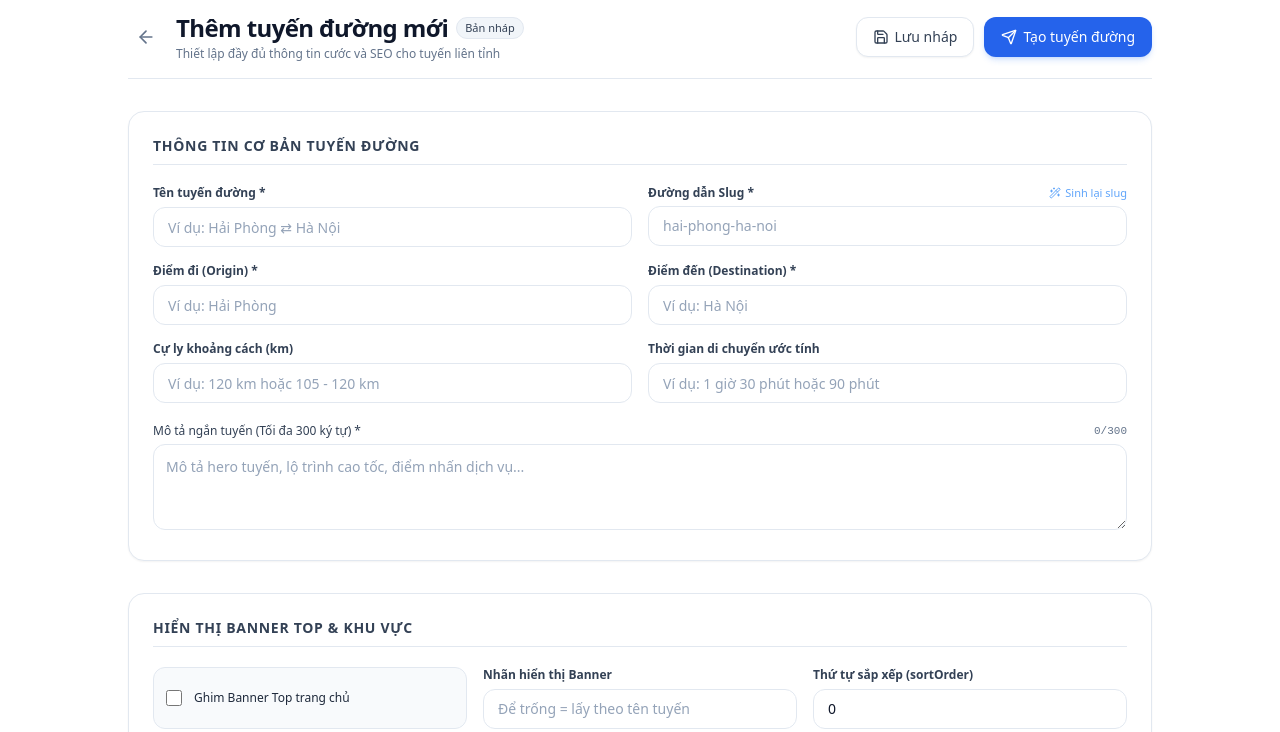
it: Routes & Pricing Tiers Module (Task T114 & T115) › RouteForm Component (Task T115) › tự động sinh slug từ tên tuyến khi tạo mới
Type "Hải Phòng - Nam Định" into the field with test id "route-name-input" at (392, 227), box left=153, top=207, right=632, bottom=247
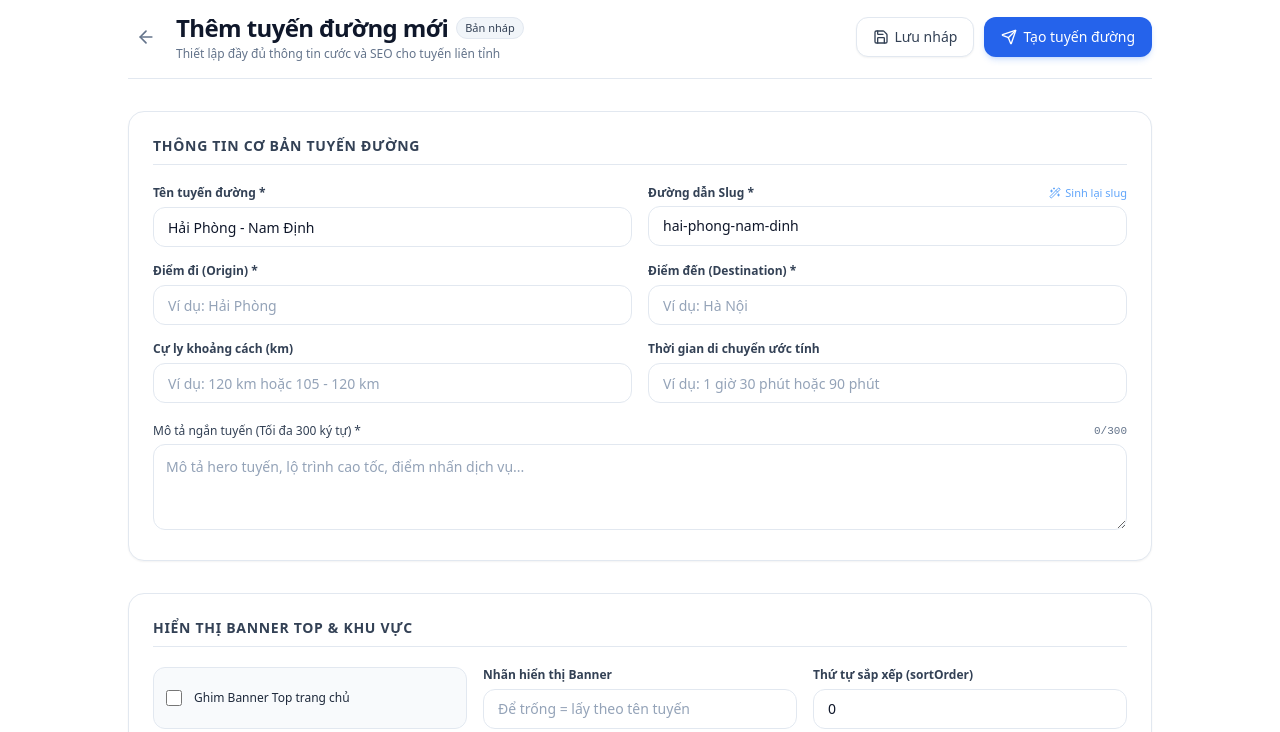
Result: the field with test id "route-slug-input" holds "hai-phong-nam-dinh" at left=648, top=206, right=1127, bottom=246
